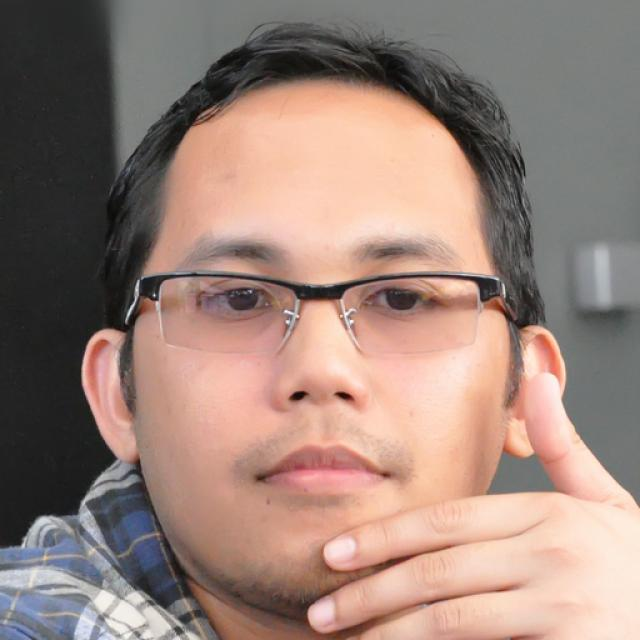neutral: (132, 95, 508, 599)
